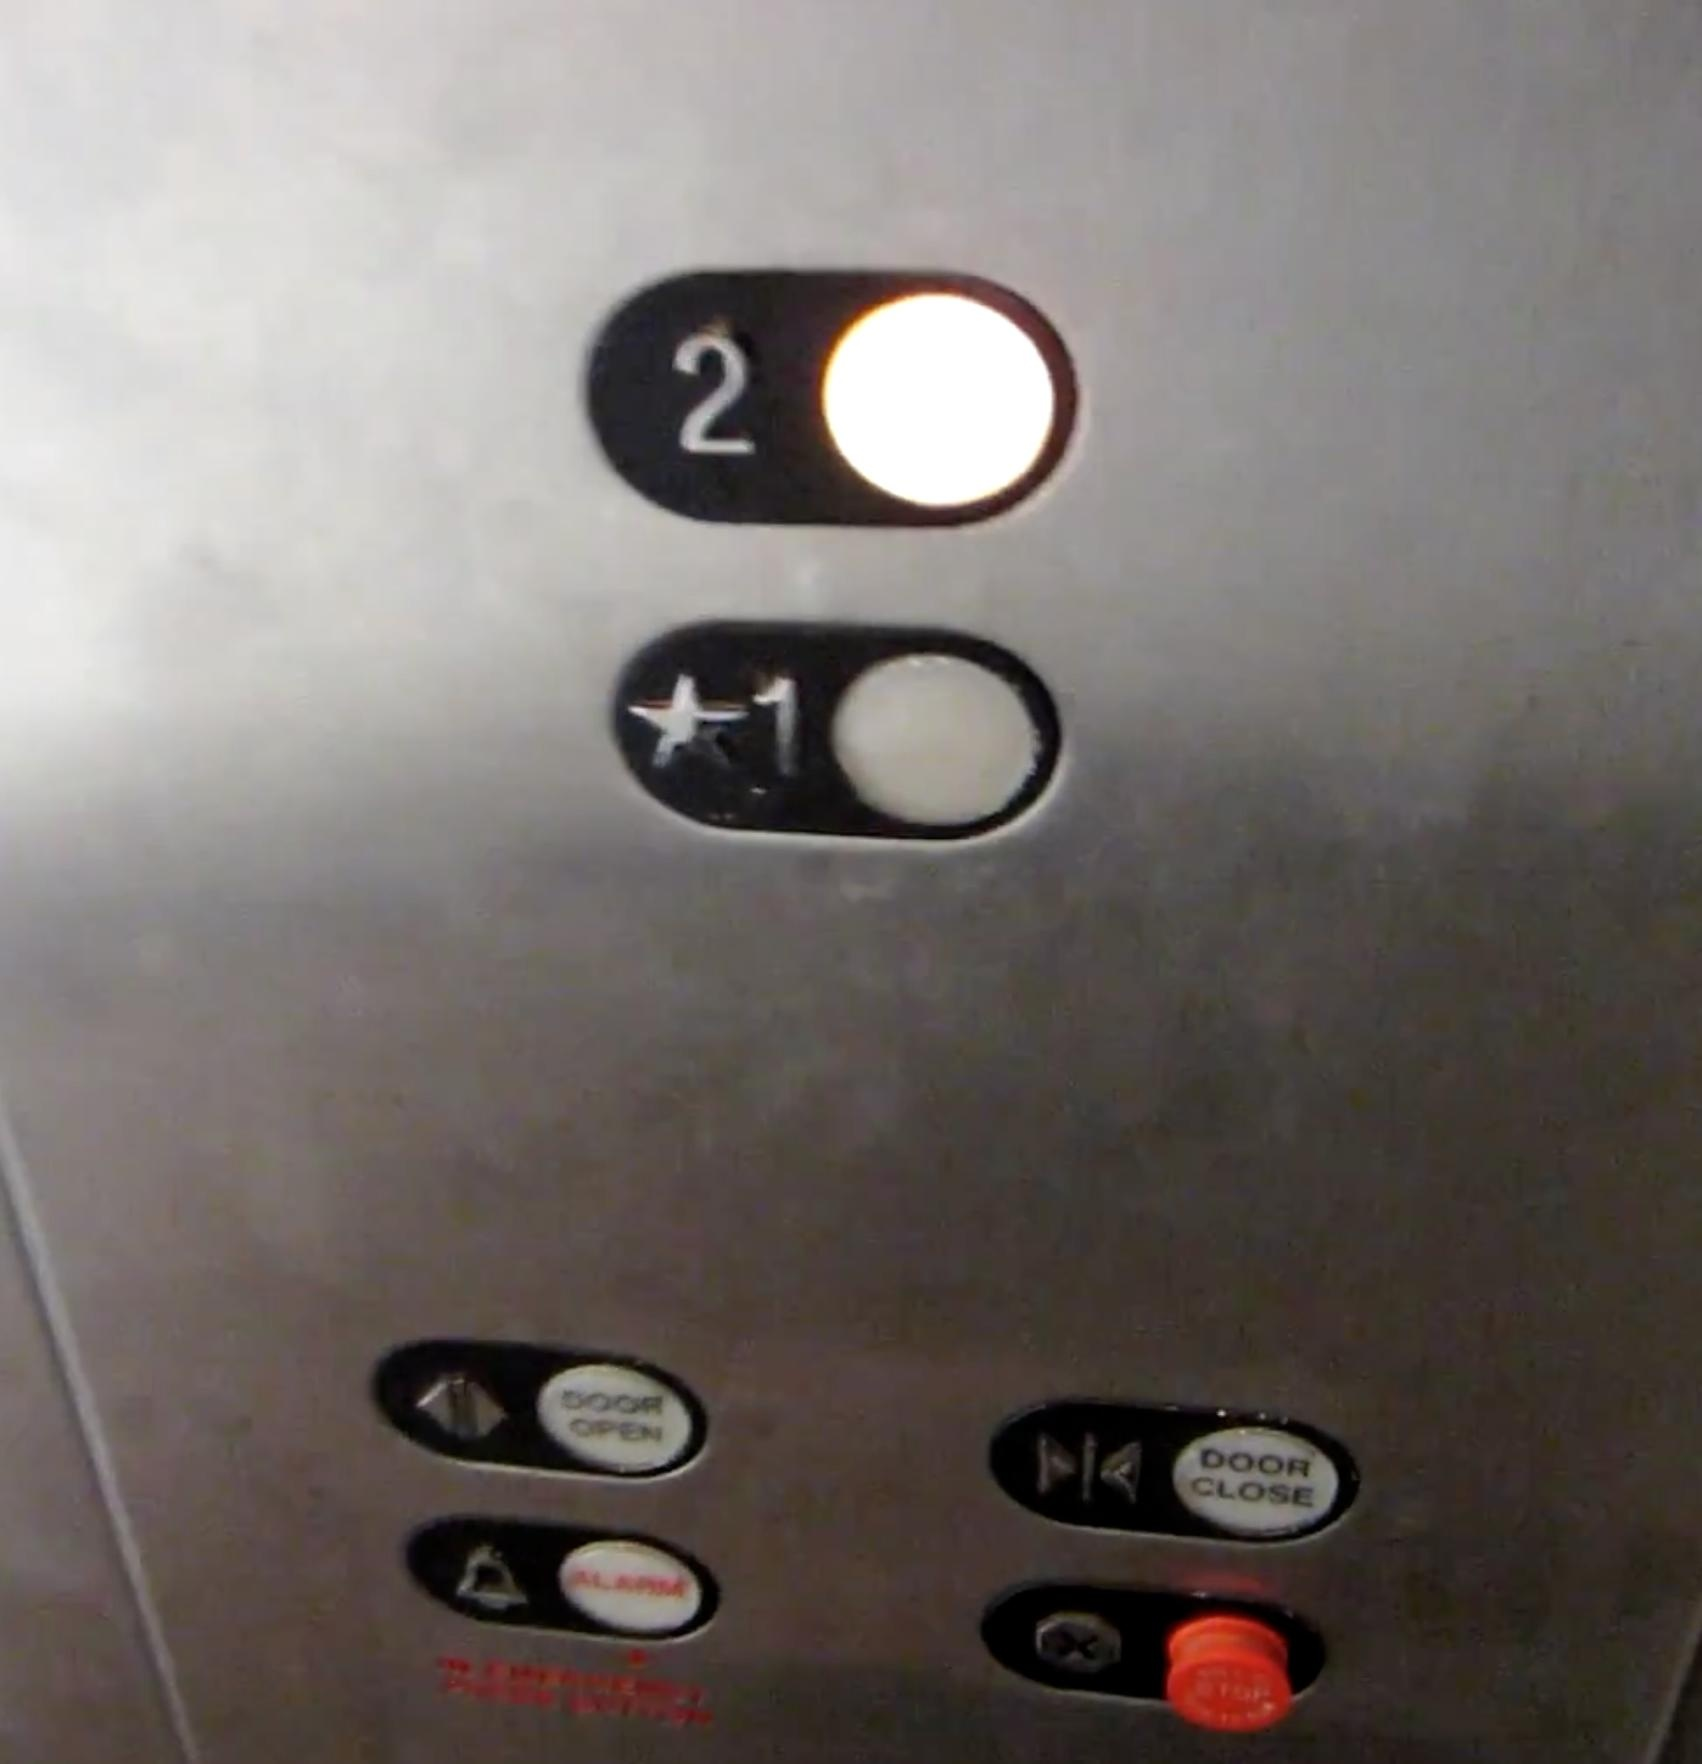2: (565, 249, 1097, 540)
alarm: (395, 1501, 727, 1655)
close: (976, 1384, 1368, 1556)
open: (348, 1325, 724, 1492)
s1: (594, 606, 1086, 849)
text: (981, 1570, 1337, 1747)
